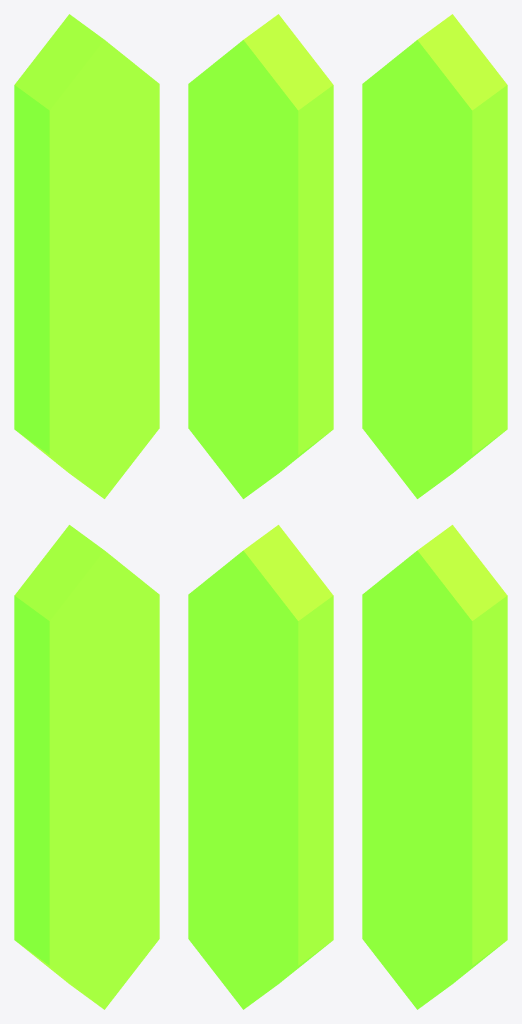
Rendered from number1.glb.
3 views of the same model, side by side, from view 1: azimuth 30°, elevation 25°; view 2: azimuth 150°, elevation 25°; view 3: azimuth 330°, elevation 25° (orthographic).
Visible parts, largest first — view 1: Cube.002; view 2: Cube.002; view 3: Cube.002.
Boxes of the visible parts, x1=… form: Cube.002: x1=14, y1=14, x2=159, y2=1009; Cube.002: x1=188, y1=14, x2=333, y2=1009; Cube.002: x1=362, y1=14, x2=507, y2=1009.
Size of the model in its own units: 1.8 by 15.2 by 1.
